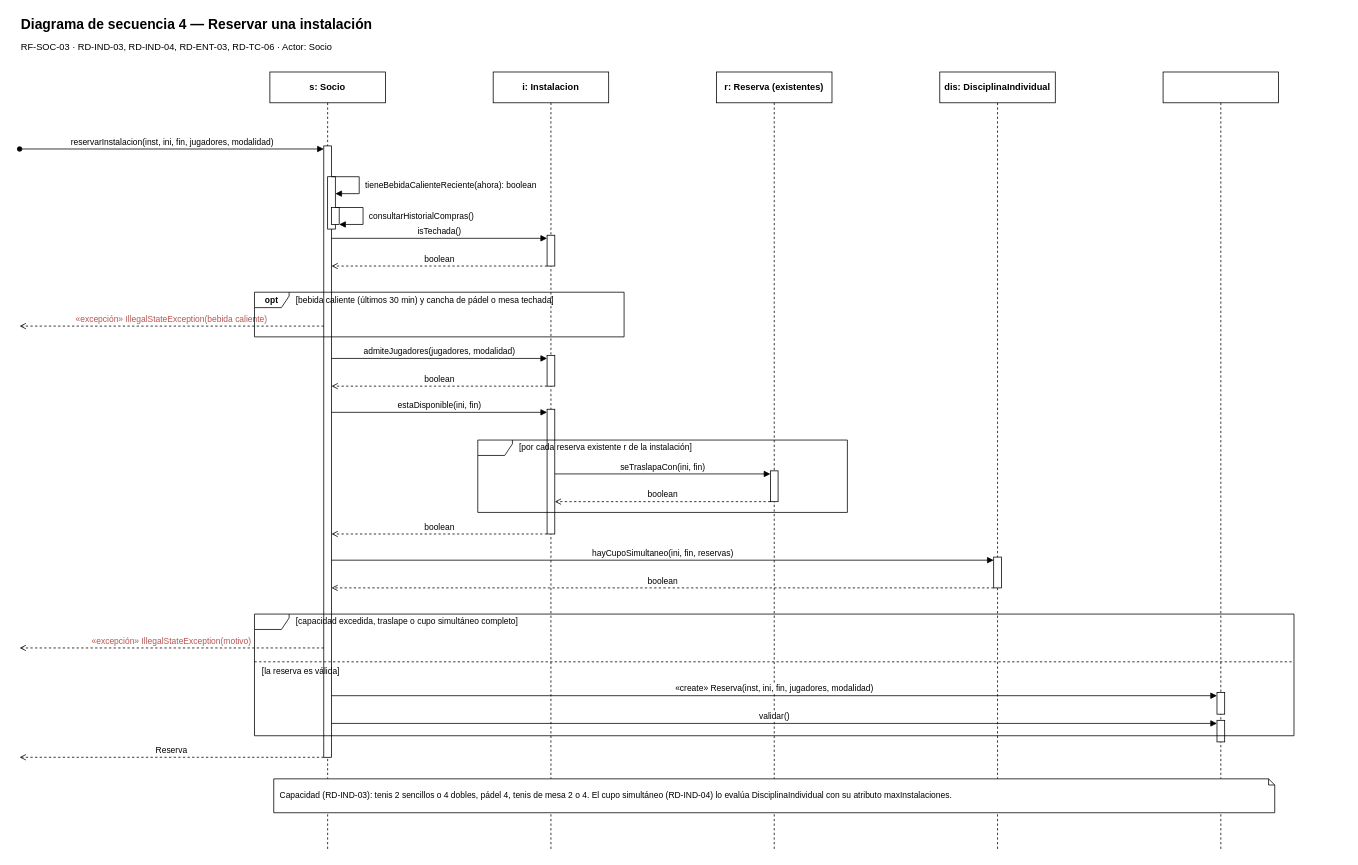
This 1358x865 diagram has some shape labels left out. The box of each missing label's shape, as (x1, y1, x2, y2) in pixels:
alt: (254, 613, 1294, 736)
loop: (477, 439, 847, 512)
nueva: Reserva: (1162, 71, 1279, 851)
